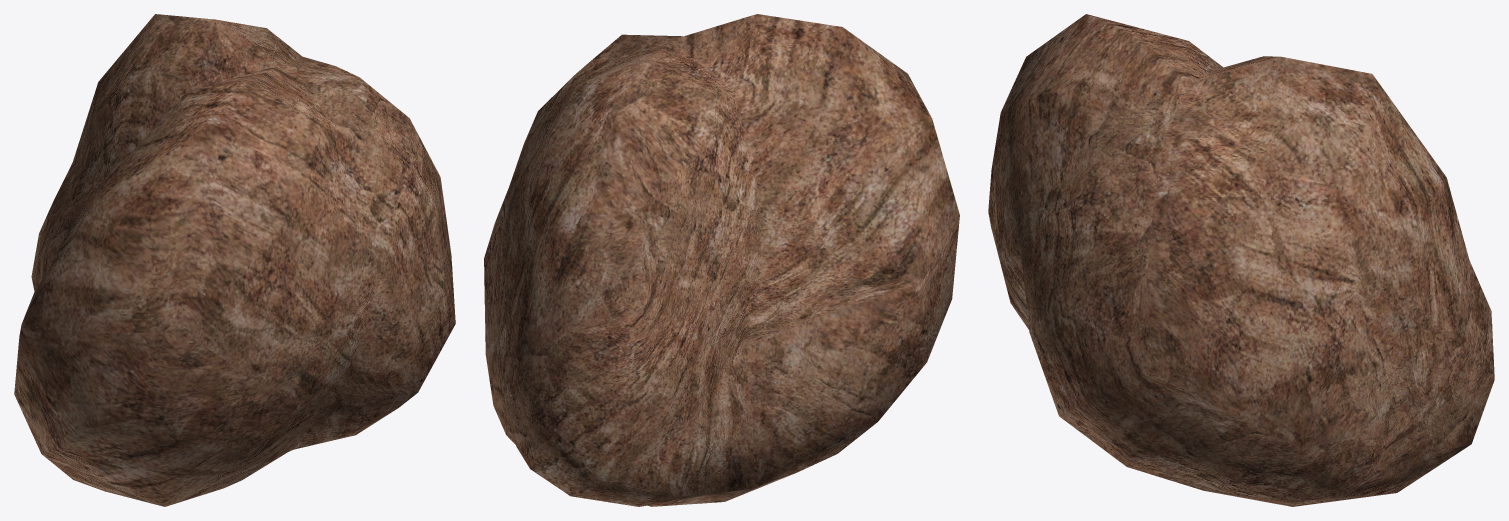
File: rock_dath_desertboulder_a1_l0.fbx
3 views of the same model, side by side, from view 1: azimuth 30°, elevation 25°; view 2: azimuth 150°, elevation 25°; view 3: azimuth 270°, elevation 25° (orthographic). The views are drawn at different scales.
Visible parts, largest first — view 1: mesh_node; view 2: mesh_node; view 3: mesh_node.
Part boxes in pixels (x1,y1,x2,y2): mesh_node: (14,14,455,506); mesh_node: (484,14,959,506); mesh_node: (988,14,1494,506).
Bounding box in the file's own units: 1.55 × 1.59 × 1.63.
